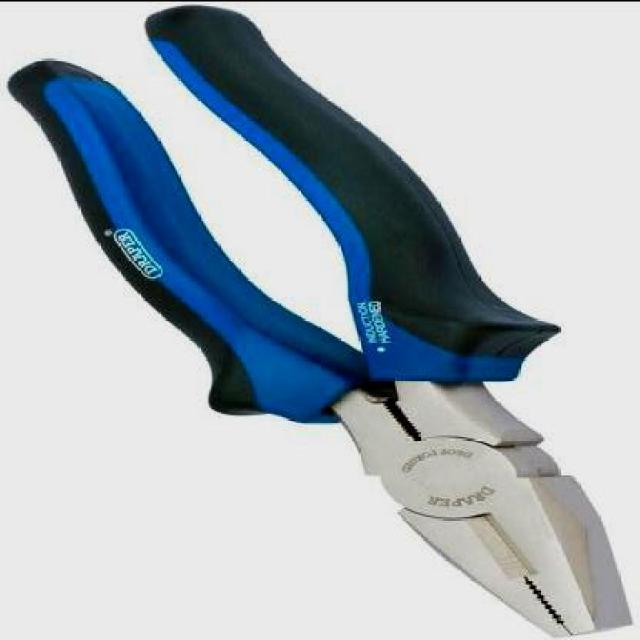pliers: (11, 0, 631, 632)
